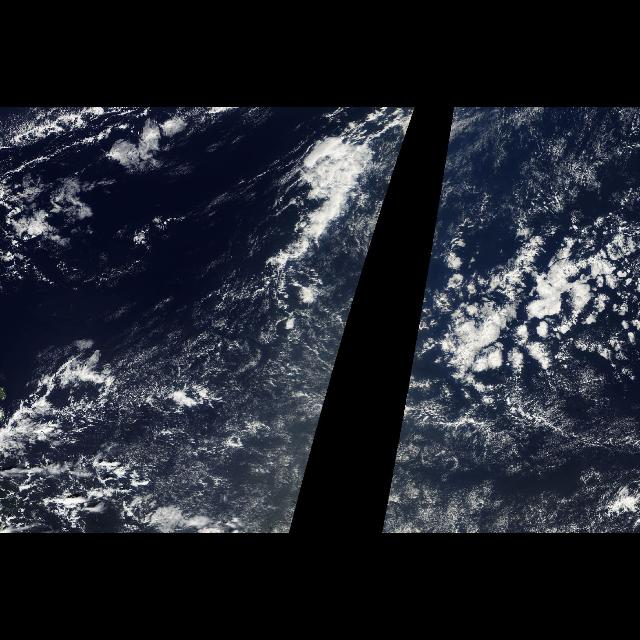Flower: (448, 180, 638, 442)
Sugar: (120, 372, 334, 532), (388, 372, 588, 532), (438, 108, 634, 216)
